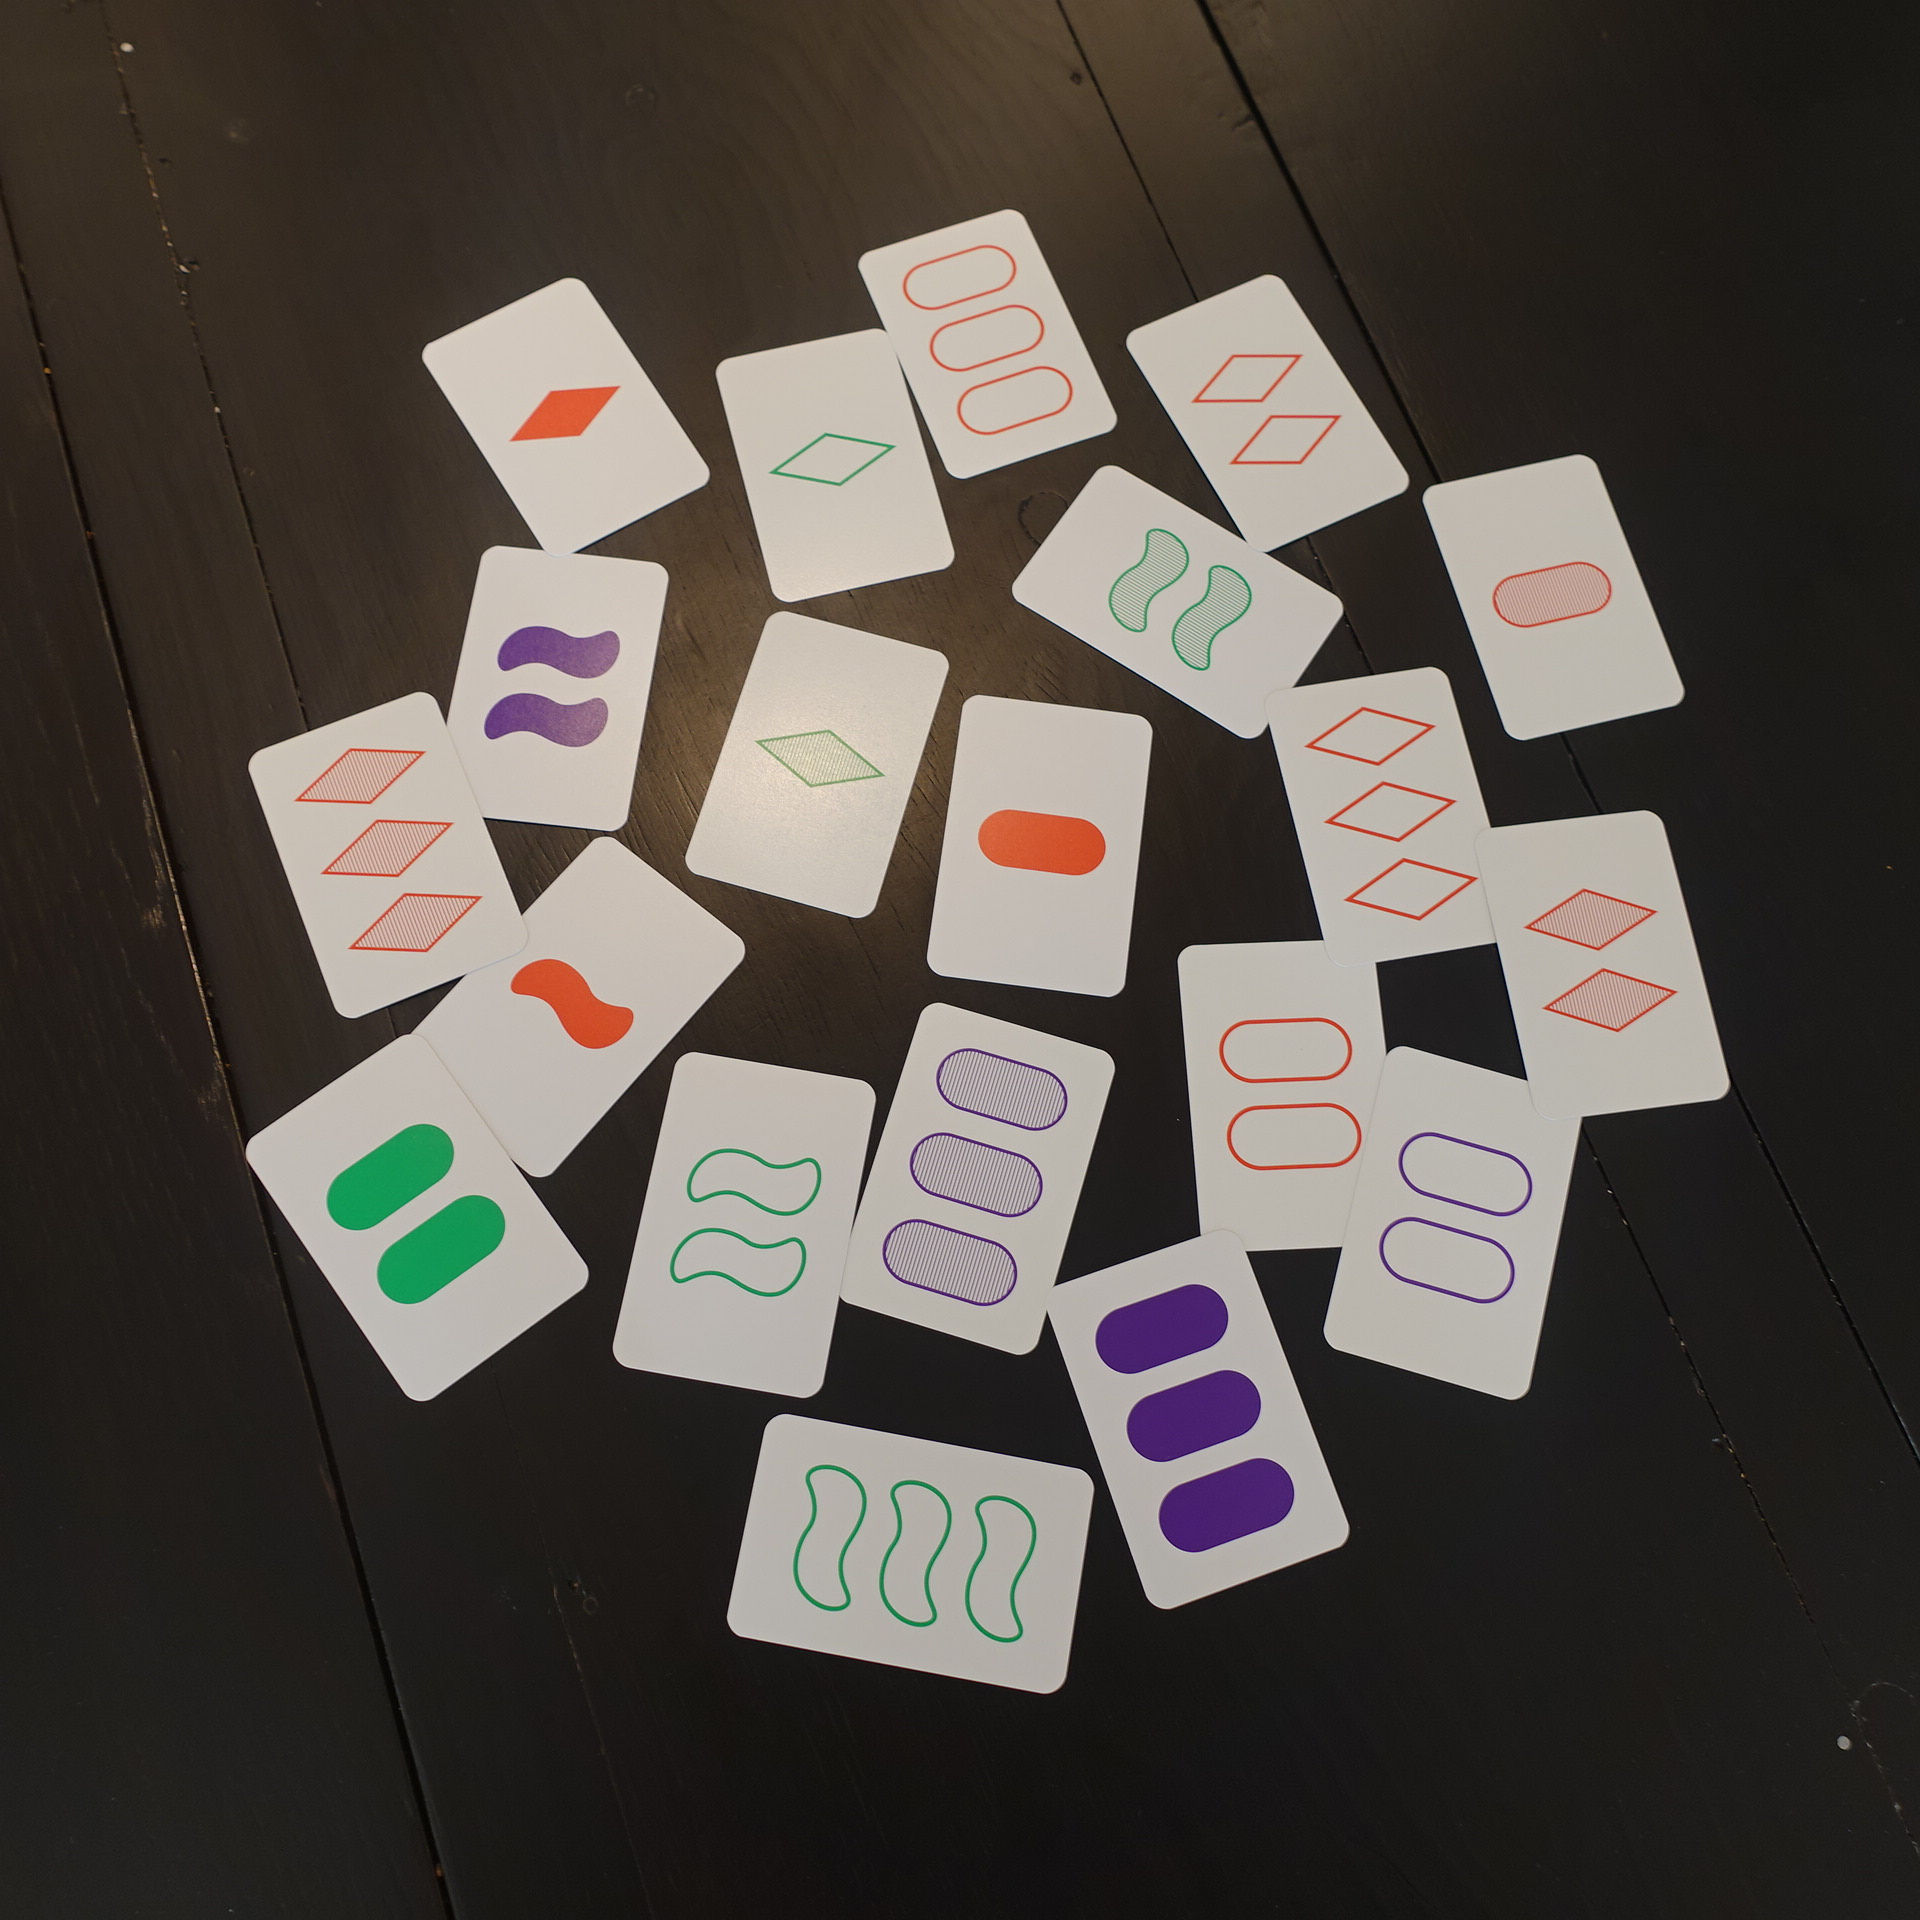c-1-f-d-r: (406, 271, 717, 568)
c-1-f-o-r: (918, 689, 1164, 1009)
c-1-f-s-r: (387, 832, 754, 1192)
c-1-h-d-r: (668, 603, 956, 925)
c-1-h-o-r: (1408, 434, 1695, 754)
c-1-u-d-r: (703, 322, 962, 617)
c-2-f-o-r: (236, 1027, 598, 1410)
c-2-f-s-r: (424, 540, 677, 846)
c-2-h-d-r: (1461, 805, 1739, 1129)
c-2-h-s-r: (1002, 461, 1350, 747)
c-2-u-d-r: (1118, 265, 1419, 566)
c-2-u-o-r: (1313, 1041, 1595, 1408), (1162, 927, 1426, 1273)
c-2-u-s-r: (578, 1046, 879, 1407)
c-3-f-o-r: (1020, 1220, 1363, 1616)
c-3-h-d-r: (237, 686, 540, 1029)
c-3-h-o-r: (830, 995, 1127, 1363)
c-3-u-d-r: (1252, 658, 1540, 972)
c-3-u-o-r: (846, 202, 1129, 489)
c-3-u-s-r: (716, 1401, 1101, 1707)
